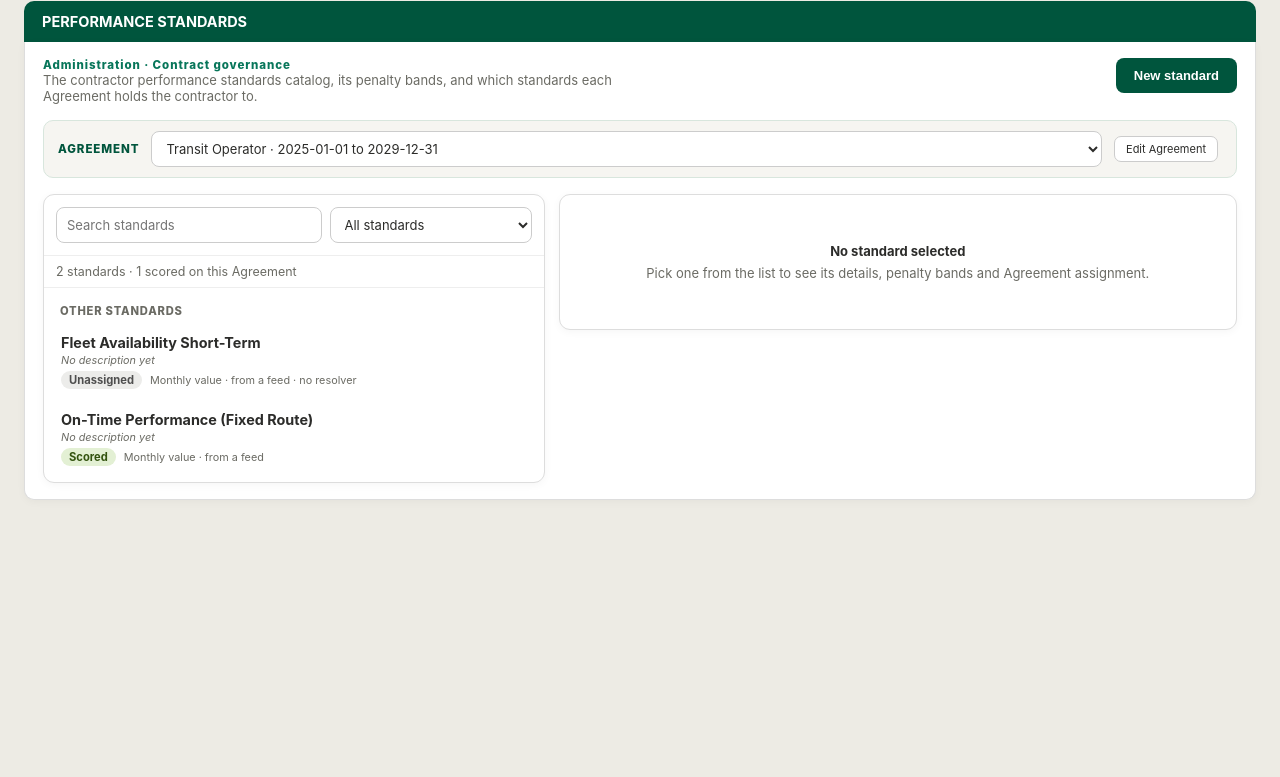
Test: Performance Standards administration › reads the configured window back as a sentence
Click the text "On-Time Performance (Fixed Route)". click: x=187, y=420
box: [61,411,313,428]
(page scrolled)
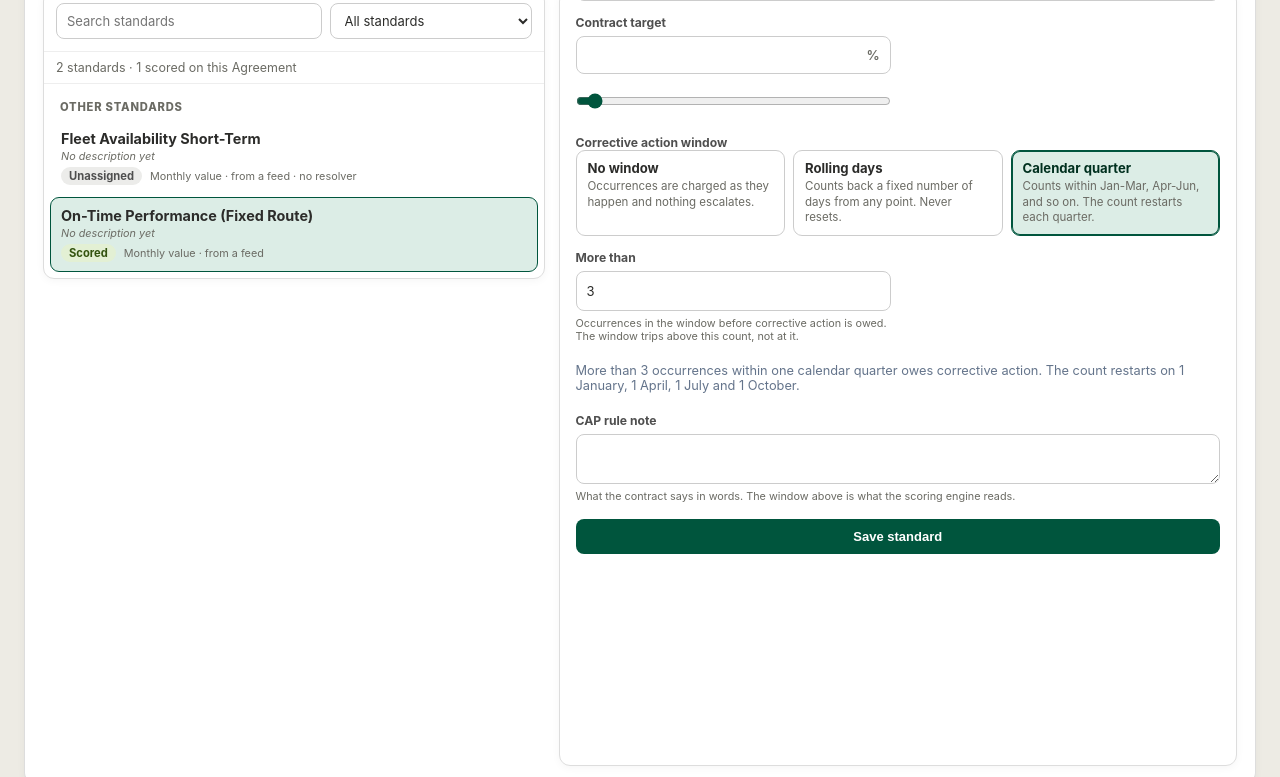
Expected: the text "restarts on 1 January" is shown, [576,363,1184,393]
